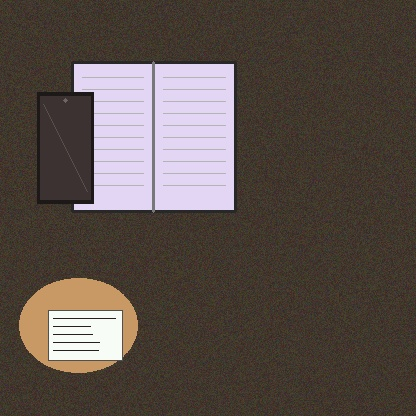book: (72, 62, 235, 211)
cell_phone: (37, 92, 93, 203)
exam_chit: (48, 310, 122, 360)
